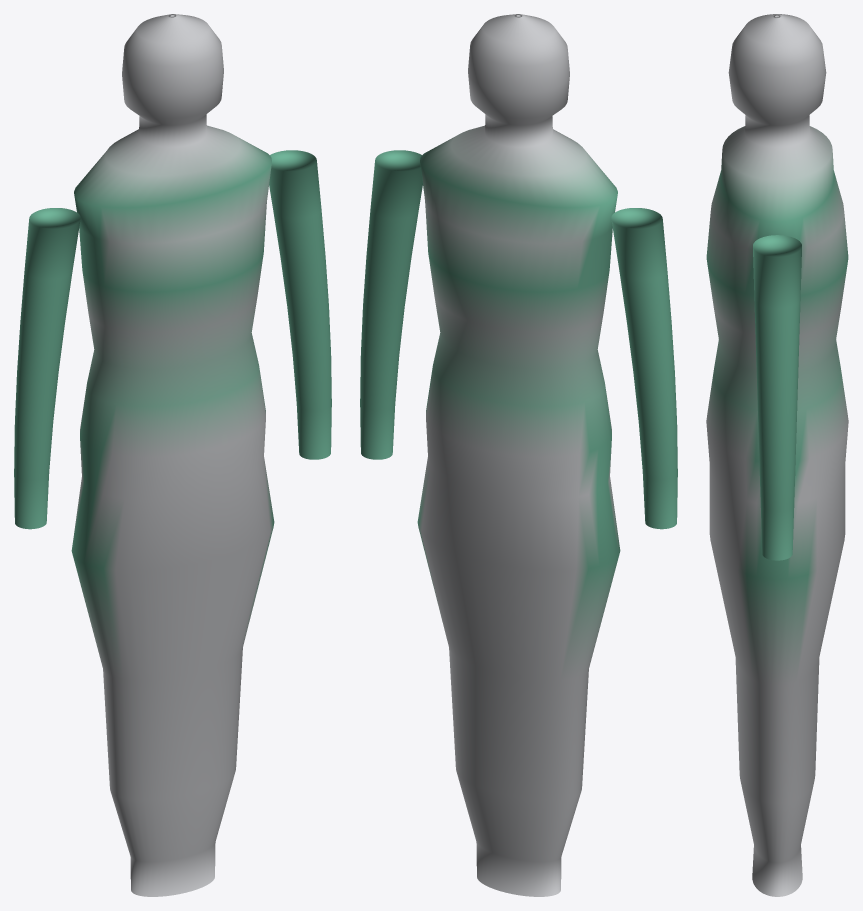
The model's file is heat-shirt.glb.
3 views of the same model, side by side, from view 1: azimuth 30°, elevation 25°; view 2: azimuth 150°, elevation 25°; view 3: azimuth 270°, elevation 25° (orthographic).
Parts seen in each view (by area): view 1: stand_in_body; view 2: stand_in_body; view 3: stand_in_body.
Part boxes in pixels (x1,y1,x2,y2): stand_in_body: (14,14,331,896); stand_in_body: (360,14,677,896); stand_in_body: (706,14,848,896).
Bounding box in the file's own units: 0.6506 × 1.72 × 0.2578.
